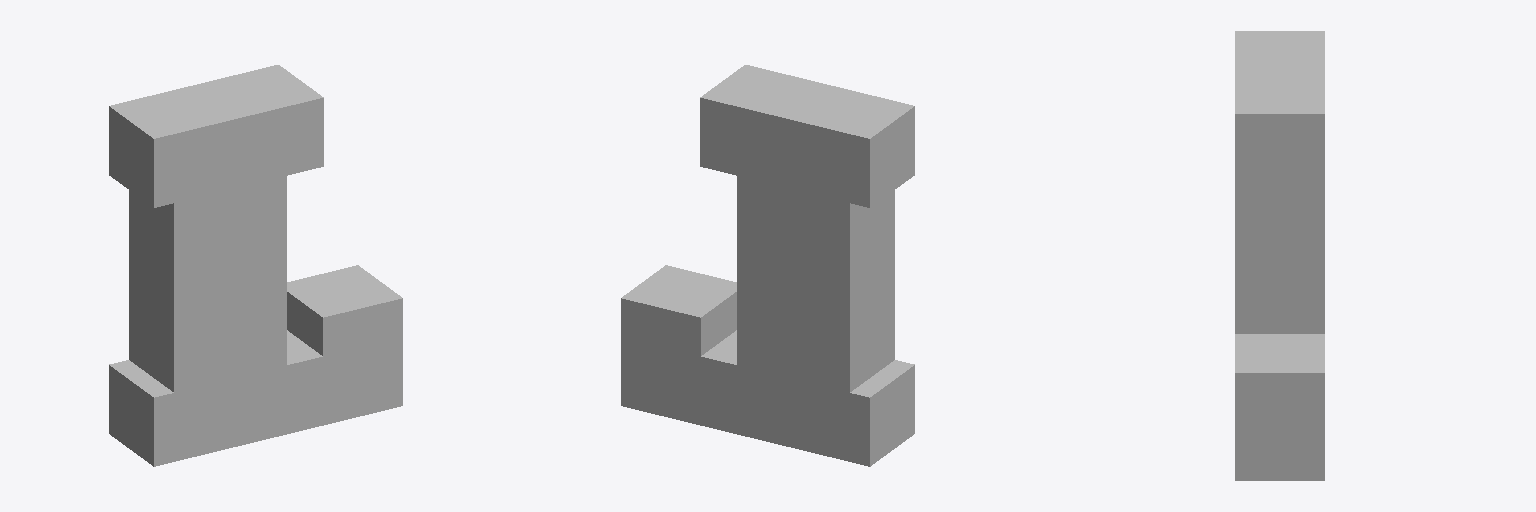
The picture shows the model from 3 angles: view 1: azimuth 30°, elevation 25°; view 2: azimuth 150°, elevation 25°; view 3: azimuth 270°, elevation 25°; orthographic projection.
Visible parts, largest first — view 1: text: ABCDEFGHIJKLMNOPQRSTUVWXYZ[number redacted]; view 2: text: ABCDEFGHIJKLMNOPQRSTUVWXYZ[number redacted]; view 3: text: ABCDEFGHIJKLMNOPQRSTUVWXYZ[number redacted].
Part boxes in pixels (x1,y1,x2,y2): text: ABCDEFGHIJKLMNOPQRSTUVWXYZ[number redacted]: (109,65,402,466); text: ABCDEFGHIJKLMNOPQRSTUVWXYZ[number redacted]: (621,65,914,466); text: ABCDEFGHIJKLMNOPQRSTUVWXYZ[number redacted]: (1235,31,1324,480).
Bounding box in the file's own units: 79.56 × 100 × 25.